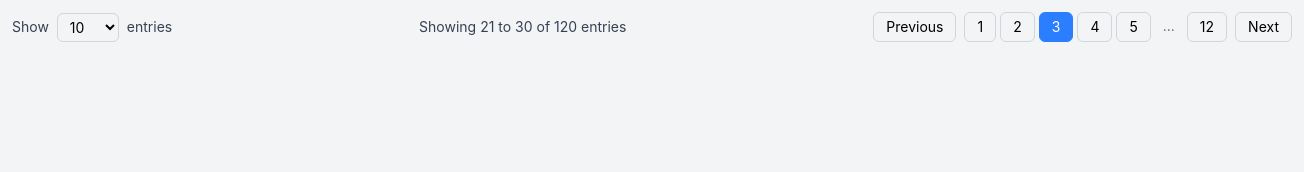
Test case: Pagination › returns to page 1 when the page size changes
Select "50" in the dropdown labelled "Show". click: [88, 27]
box: [57,12,119,42]
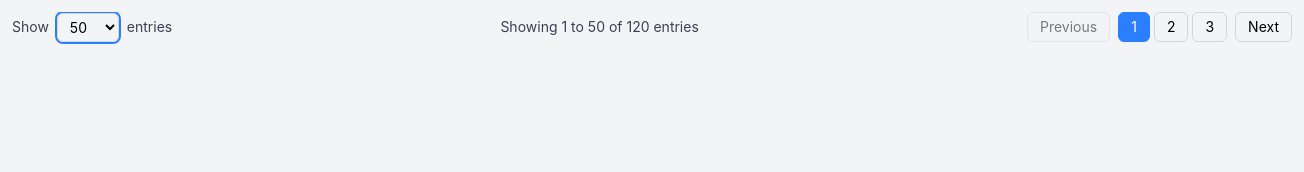
Expected: the text "Showing 1 to 50 of 120 entries" is shown, [500,18,699,35]
